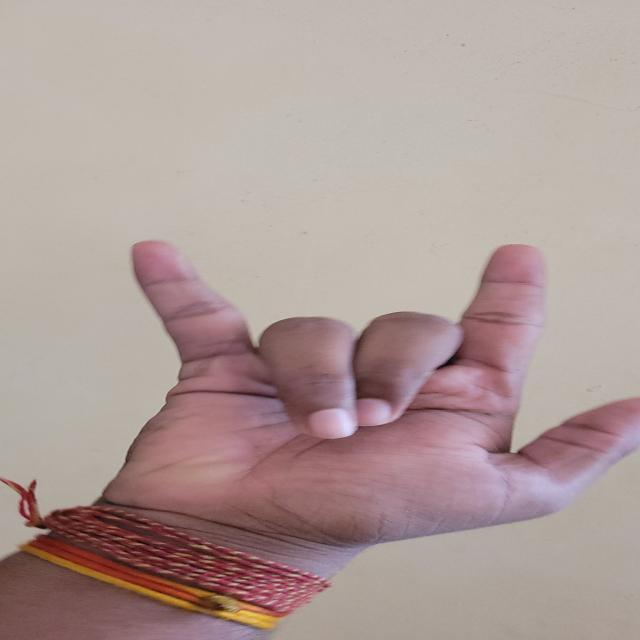i like you: (43, 222, 640, 612)
